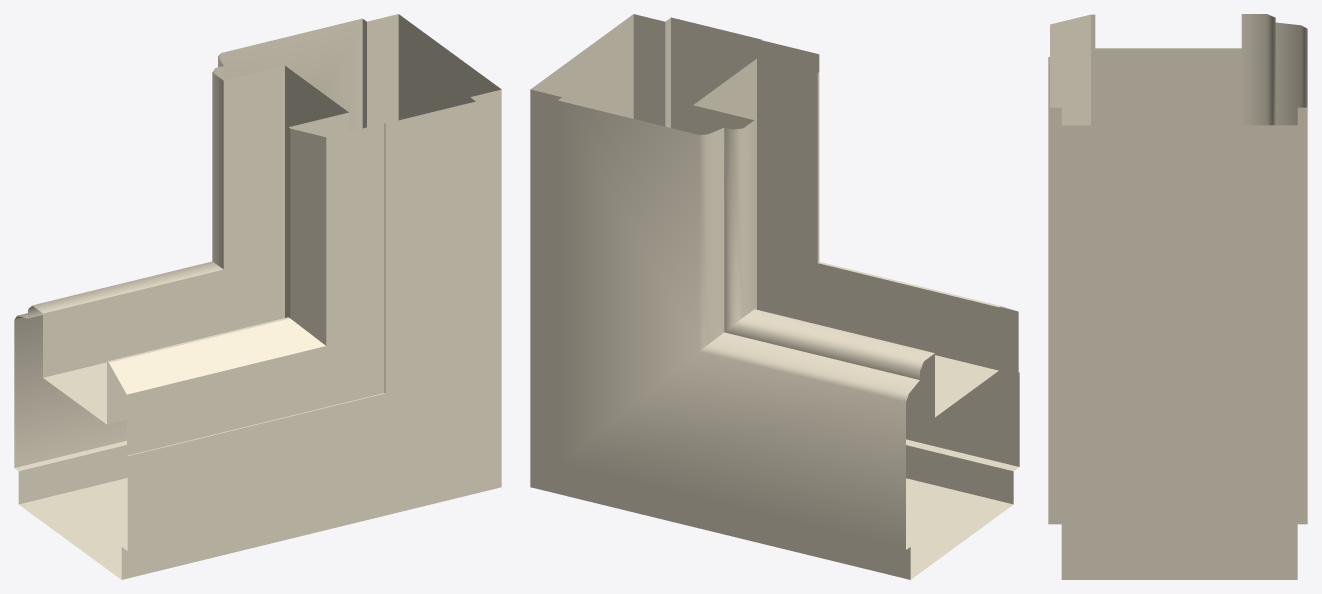
Rendered from original-35.obj.
3 renders of one model, left to right at view 1: azimuth 30°, elevation 25°; view 2: azimuth 150°, elevation 25°; view 3: azimuth 270°, elevation 25°, orthographic. The views are drawn at different scales.
Visible parts, largest first — view 1: BF_BR1/BF_BR/mesh293/mesh293-geometry#mesh293-geometry; view 2: BF_BR1/BF_BR/mesh293/mesh293-geometry#mesh293-geometry; view 3: BF_BR1/BF_BR/mesh293/mesh293-geometry#mesh293-geometry.
Boxes of the visible parts, box(x1,y1,x2,y2) form: BF_BR1/BF_BR/mesh293/mesh293-geometry#mesh293-geometry: box(14, 14, 501, 579); BF_BR1/BF_BR/mesh293/mesh293-geometry#mesh293-geometry: box(530, 14, 1019, 579); BF_BR1/BF_BR/mesh293/mesh293-geometry#mesh293-geometry: box(1048, 14, 1307, 579).
Bounding box in the file's own units: 0.0978 × 0.0978 × 0.0505.
